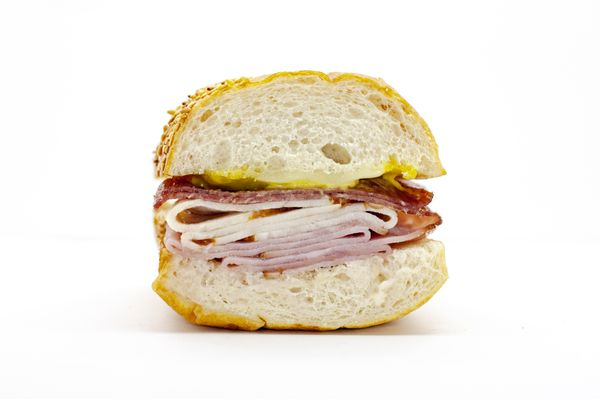soup: (149, 69, 451, 332)
